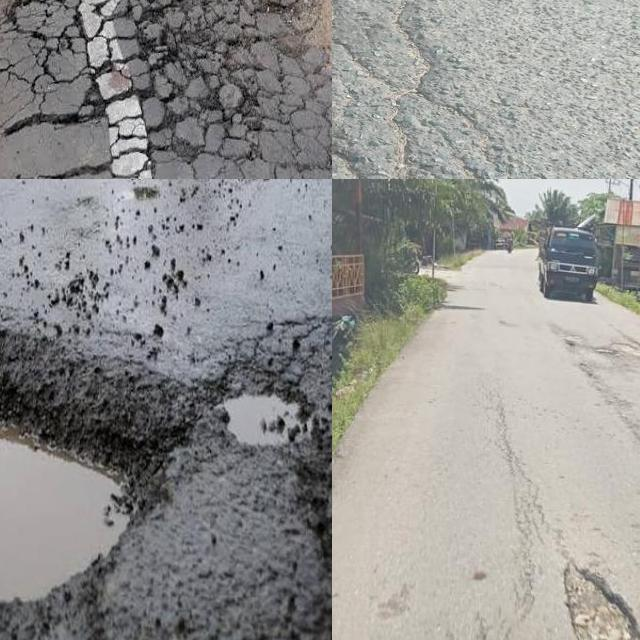Lubang: (0, 363, 166, 616), (214, 381, 318, 452), (565, 566, 639, 640)
Retak Buaya: (105, 24, 332, 179), (332, 0, 495, 179)
